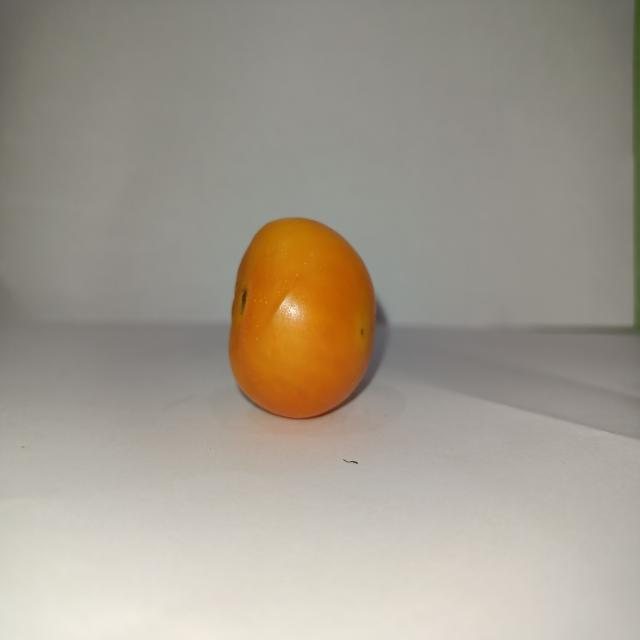Red: (227, 215, 377, 419)
